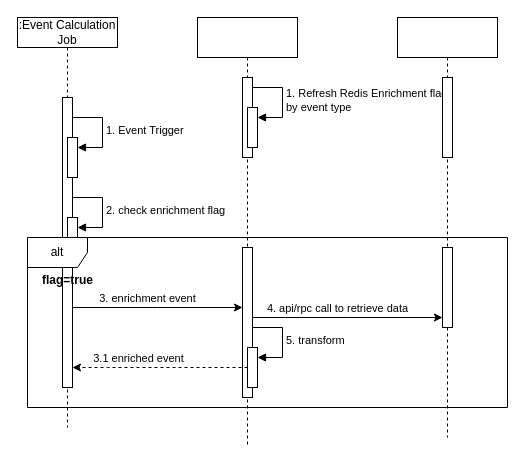
Image size: 525x465. Some labels were removed from this diagram. The centre of each missing label's shape, as x and y in pixels:
":Event Center Service" belongs at [247,232].
":Other System Service" belongs at [447,227].
